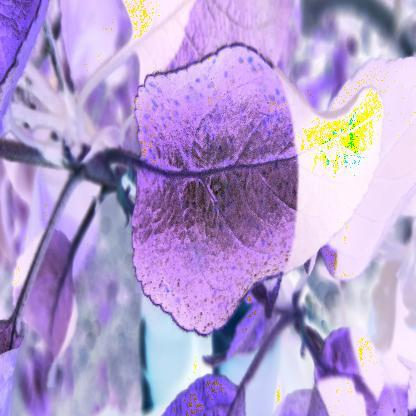Apple rust leaf: (132, 45, 397, 334)
